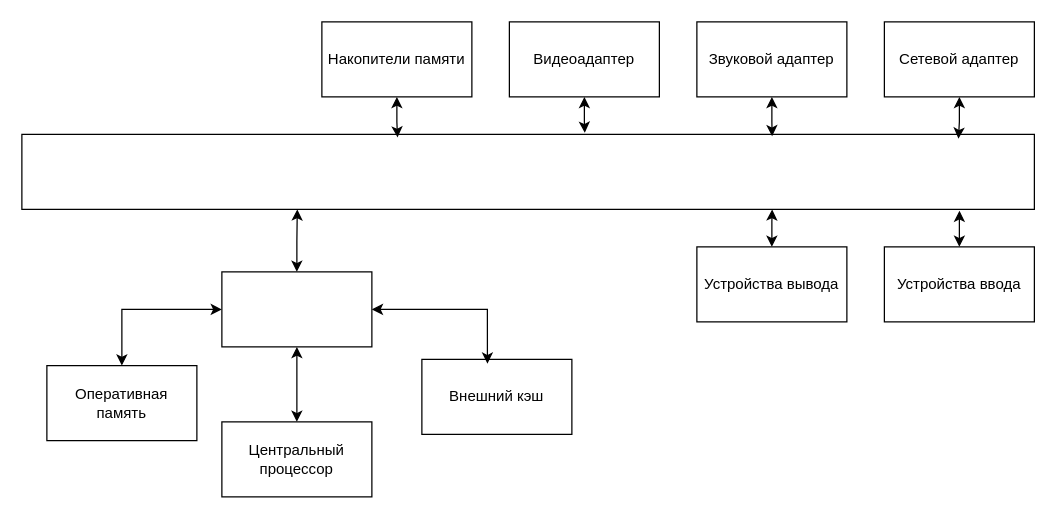
This 1056x519 diagram has some shape labels left out. The centre of each missing label's shape, as x and y in pixels:
"Контроллер памяти/ шины" belongs at [296,309].
"Системная магистраль PCI" belongs at [527,171].
